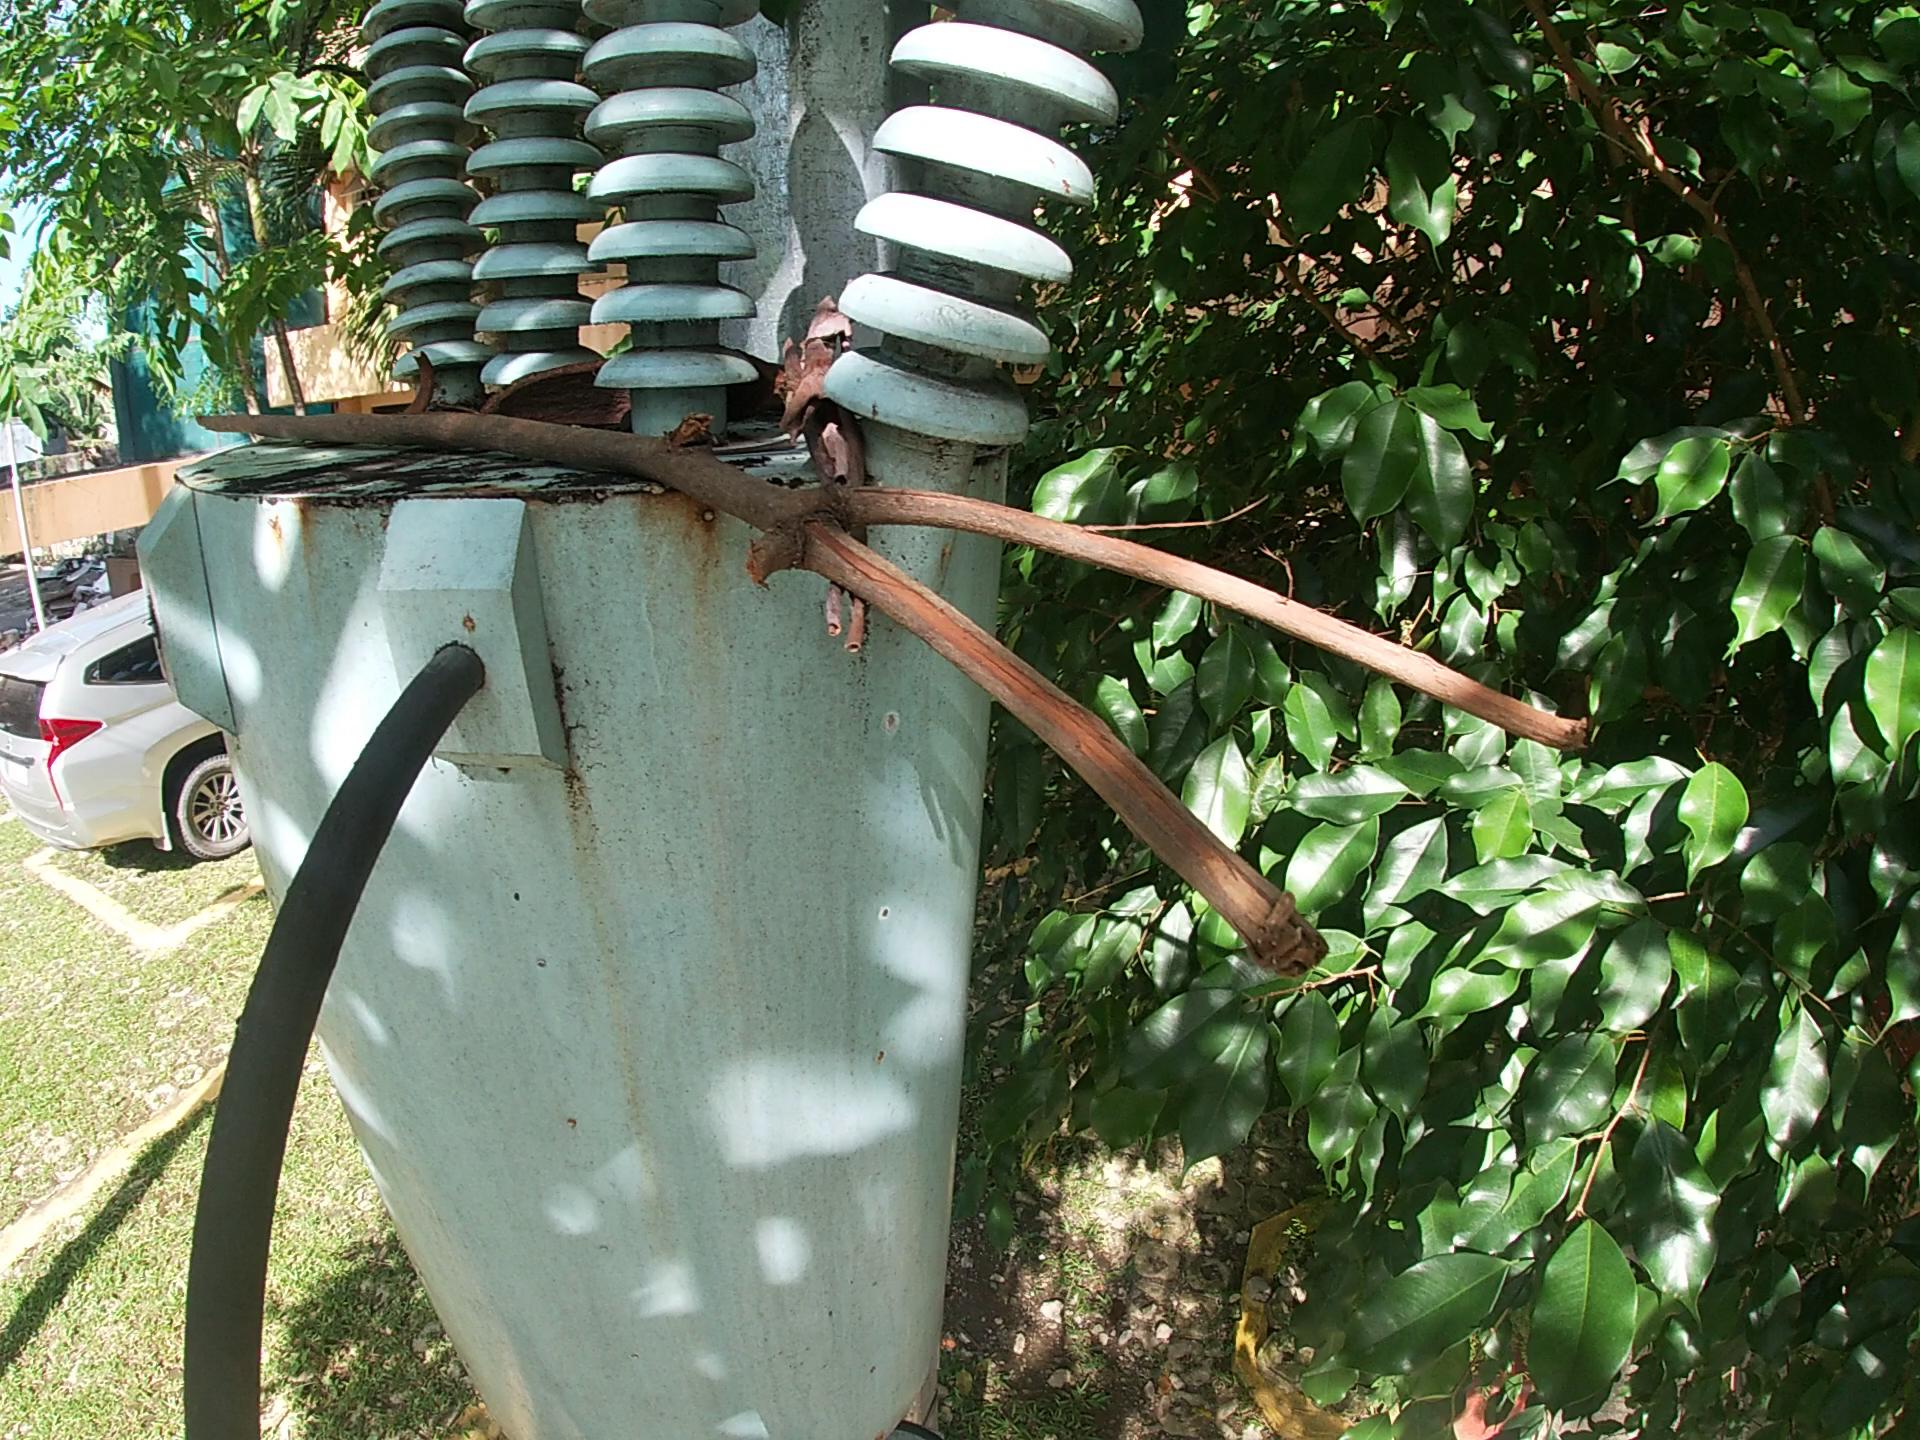mahogany fruit: (479, 340, 791, 448), (401, 346, 438, 414)
tree branch: (181, 395, 1599, 988), (774, 290, 878, 667)
